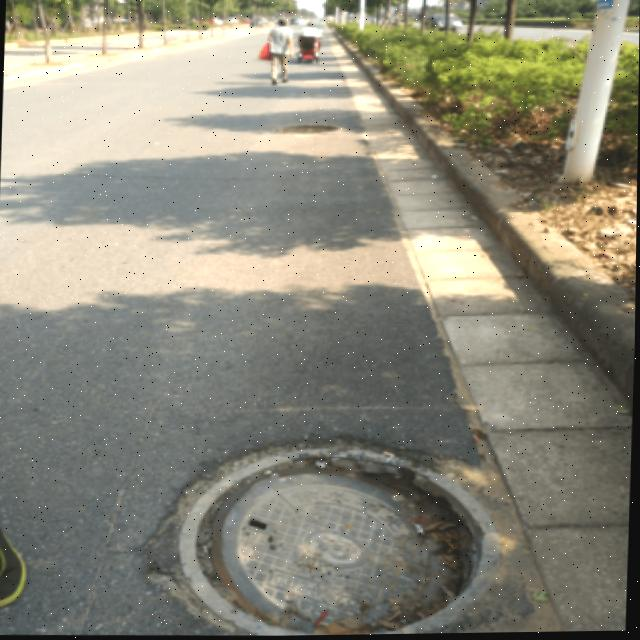manhole: (161, 426, 492, 637)
